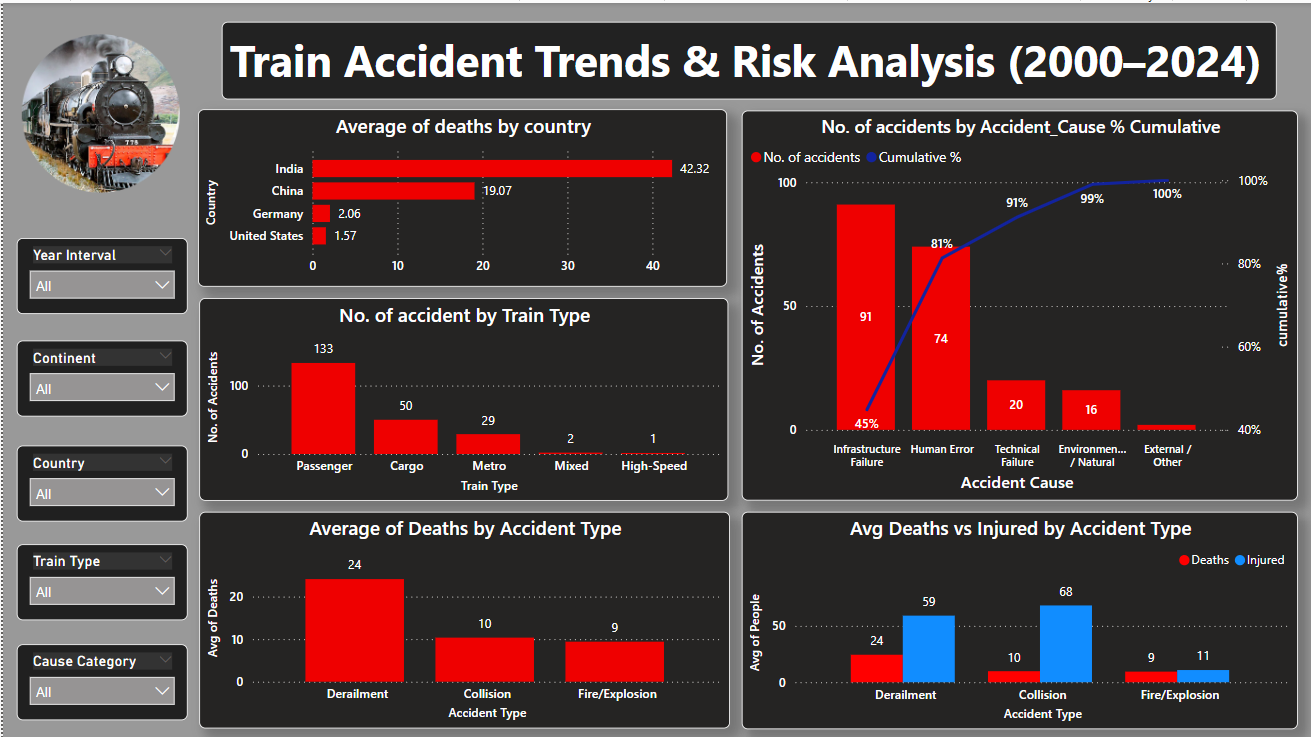

The page's visual inventory and layout, read from the dashboard file:
{"tool":"powerbi","page":{"name":"Risk Analysis","canvas":[1280,720],"ordinal":1},"visuals":[{"type":"textbox","box":[213.5,17.8,1032.1,75.6],"z":0},{"type":"image","box":[0,25.7,190.8,165.1],"z":1000},{"type":"slicer","fields":{"Values":["rail_accident_final_cleaned2.year_interval"]},"box":[13.5,229.9,167.5,74.6],"z":2000},{"type":"slicer","fields":{"Values":["rail_accident_final_cleaned2.continent"]},"box":[13.5,330.2,167.5,74.6],"z":3000},{"type":"slicer","fields":{"Values":["rail_accident_final_cleaned2.country"]},"box":[13.5,432.9,167.5,74.6],"z":4000},{"type":"slicer","fields":{"Values":["rail_accident_final_cleaned2.train_type"]},"box":[13.5,529.5,167.5,74.6],"z":5000},{"type":"slicer","fields":{"Values":["rail_accident_final_cleaned2.cause_category"]},"box":[13.5,627.3,167.5,74.6],"z":6000},{"type":"barChart","fields":{"Y":["Avg(rail_accident_final_cleaned2.deaths)"],"Category":["rail_accident_final_cleaned2.country"]},"box":[191.2,104.3,517.6,173.8],"z":7000},{"type":"columnChart","title":"No. of accident by Train Type","fields":{"Category":["rail_accident_final_cleaned2.train_type"],"Y":["CountNonNull(rail_accident_final_cleaned2.accident_id)"]},"box":[192.4,288,517.6,198.6],"z":8000},{"type":"lineClusteredColumnComboChart","title":"No. of accidents by Accident_Cause  & % Cumulative","fields":{"Category":["rail_accident_final_cleaned2.cause_category"],"Y2":["rail_accident_final_cleaned2.Cumulative %"],"Y":["CountNonNull(rail_accident_final_cleaned2.accident_id)"]},"box":[722.7,105.2,544.2,381.5],"z":9000},{"type":"columnChart","title":"Average of Deaths by Accident Type","fields":{"Category":["rail_accident_final_cleaned2.accident_type"],"Y":["Avg(rail_accident_final_cleaned2.deaths)"]},"box":[192.4,497.8,518.9,212.3],"z":10000},{"type":"clusteredColumnChart","title":" Avg Deaths & Injured by Accident Type","fields":{"Category":["rail_accident_final_cleaned2.accident_type"],"Y":["Avg(rail_accident_final_cleaned2.deaths)","Avg(rail_accident_final_cleaned2.injured)"]},"box":[722.7,497.7,544.2,212.8],"z":11000}]}

Visuals, with their boxes in screenshot pixels (x1, y1, x2, y2), scaled from the page's 1280x720 canvas onto the 1311x737 screenshot:
textbox: box=[219, 18, 1276, 96]
image: box=[0, 26, 195, 195]
slicer - rail_accident_final_cleaned2.year_interval: box=[14, 235, 185, 312]
slicer - rail_accident_final_cleaned2.continent: box=[14, 338, 185, 414]
slicer - rail_accident_final_cleaned2.country: box=[14, 443, 185, 519]
slicer - rail_accident_final_cleaned2.train_type: box=[14, 542, 185, 618]
slicer - rail_accident_final_cleaned2.cause_category: box=[14, 642, 185, 718]
barChart - Avg(rail_accident_final_cleaned2.deaths) x rail_accident_final_cleaned2.country: box=[196, 107, 726, 285]
"No. of accident by Train Type" columnChart: box=[197, 295, 727, 498]
"No. of accidents by Accident_Cause  & % Cumulative" lineClusteredColumnComboChart: box=[740, 108, 1298, 498]
"Average of Deaths by Accident Type" columnChart: box=[197, 510, 729, 727]
" Avg Deaths & Injured by Accident Type" clusteredColumnChart: box=[740, 509, 1298, 727]
